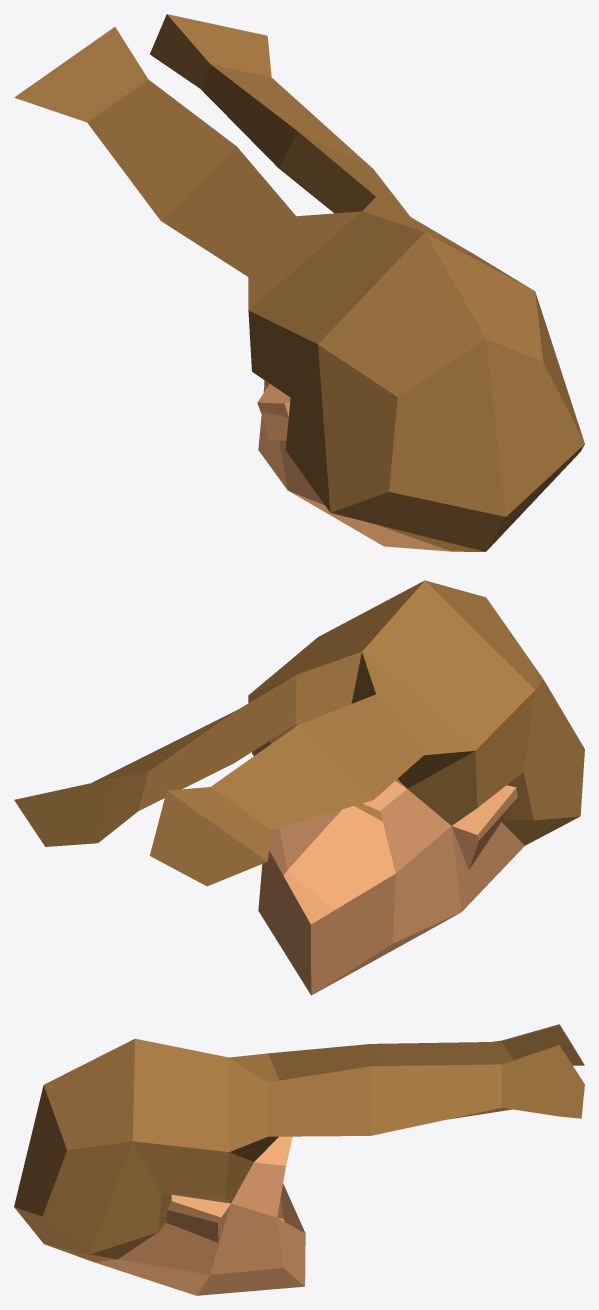
Rendered from head_girl.fbx.
3 renders of one model, top to bottom at view 1: azimuth 30°, elevation 25°; view 2: azimuth 150°, elevation 25°; view 3: azimuth 270°, elevation 25°, orthographic. The views are drawn at different scales.
Parts seen in each view (by area): view 1: girl-skirt; view 2: girl-skirt; view 3: girl-skirt.
Part boxes in pixels (bbox=[...]): girl-skirt: bbox=[14, 14, 584, 551]; girl-skirt: bbox=[14, 580, 584, 995]; girl-skirt: bbox=[14, 1024, 584, 1295].
Bounding box in the file's own units: 156 × 205 × 408.
